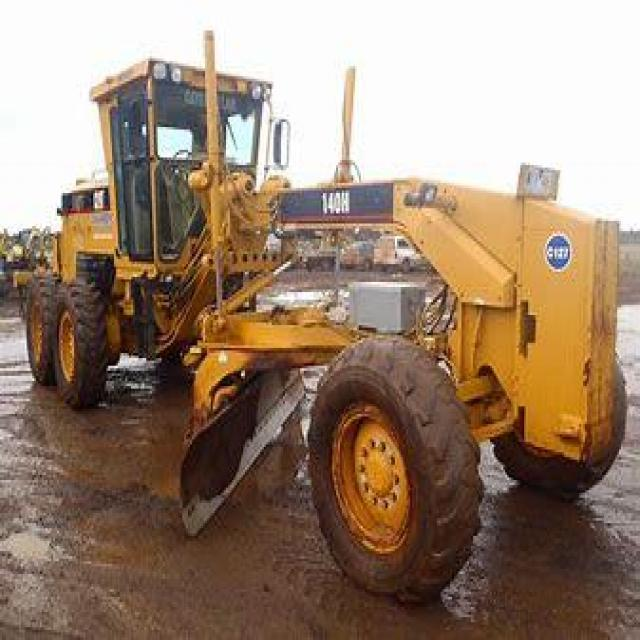Grader: (17, 28, 631, 604)
